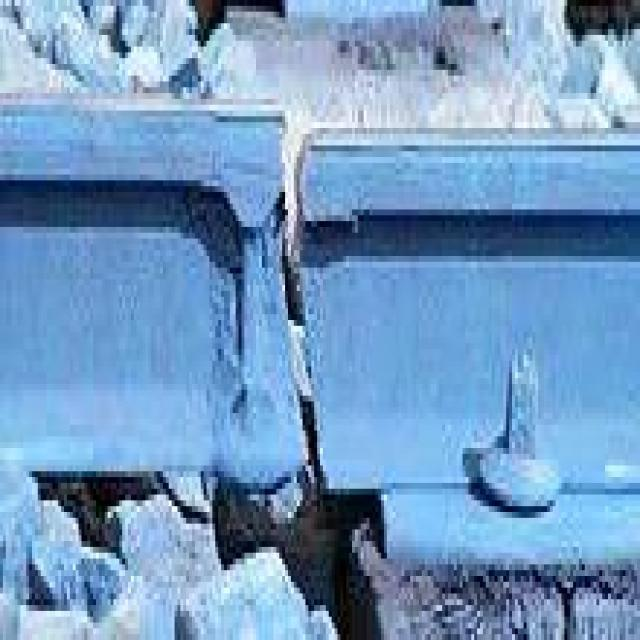broken_rail_high: (260, 96, 344, 488)
